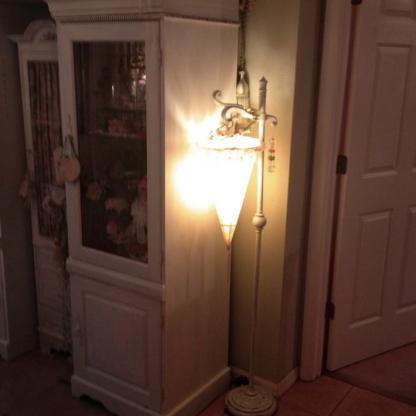door: (336, 0, 415, 384)
hinged: (328, 298, 338, 319), (338, 154, 348, 173), (351, 0, 364, 8)
